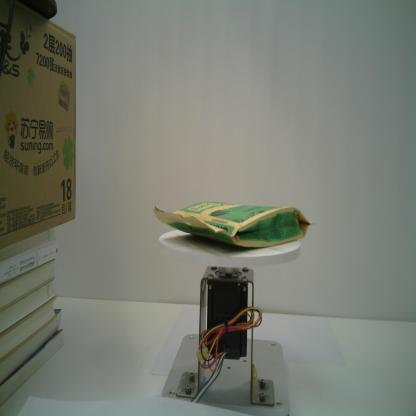Dried Food: (152, 198, 319, 252)
